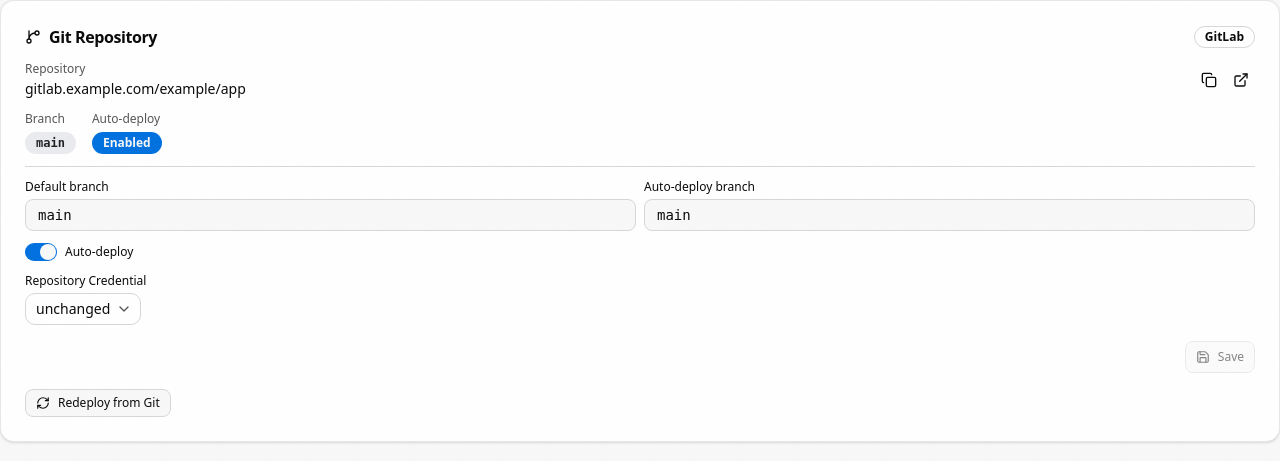
ProjectGitCard › keeps save disabled until Git settings change
This screenshot has width=1280, height=461.
Expected: the button "Save" is disabled, x1=1185 y1=341 x2=1255 y2=373
Replace the text in the field labelled "Auto-deploy branch" with "staging" at (950, 215), box x1=644 y1=199 x2=1255 y2=231
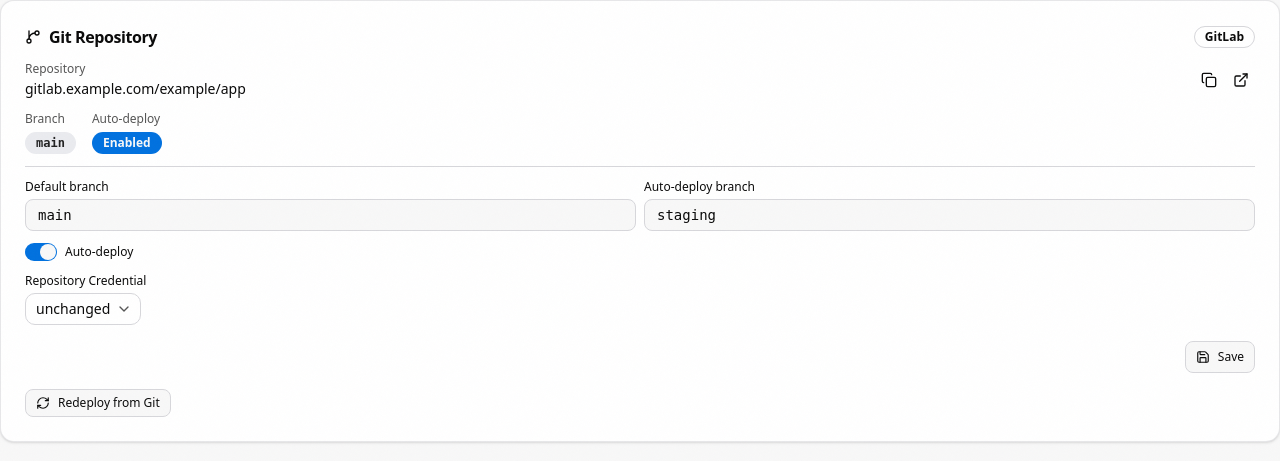
Expected: the button "Save" is enabled, x1=1185 y1=341 x2=1255 y2=373
